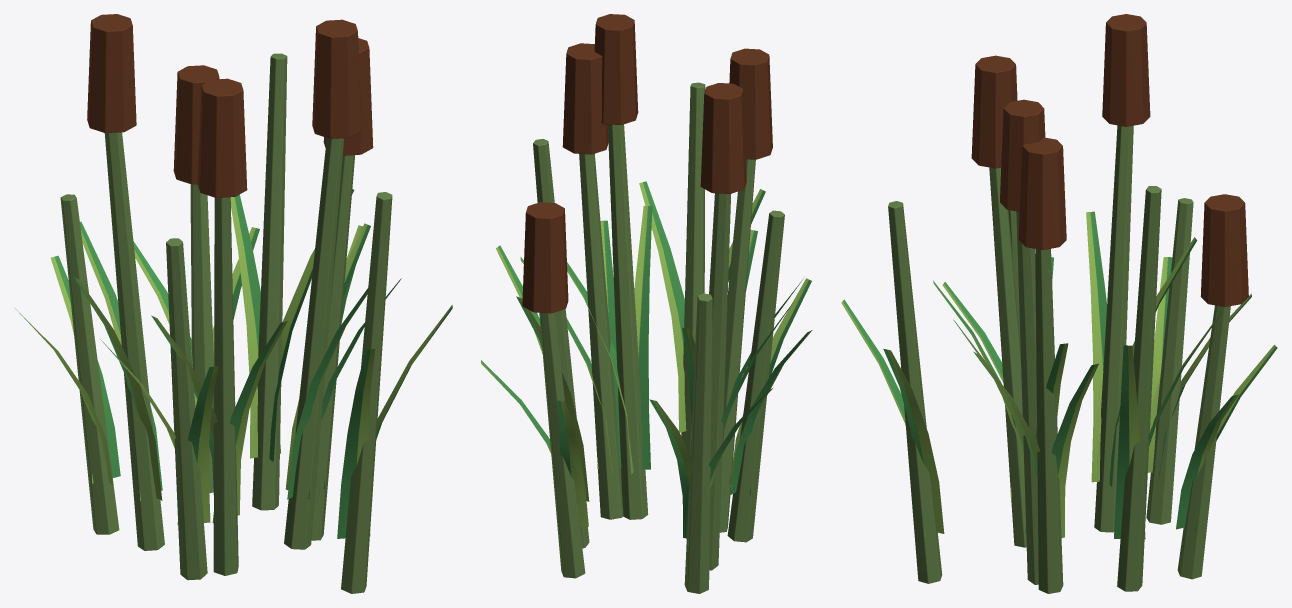
Rendered from reed_clump.glb.
3 renders of one model, left to right at view 1: azimuth 30°, elevation 25°; view 2: azimuth 150°, elevation 25°; view 3: azimuth 270°, elevation 25°, orthographic. The views are drawn at different scales.
Parts seen in each view (by area): view 1: Marsh reed.001; view 2: Marsh reed.001; view 3: Marsh reed.001.
Boxes of the visible parts, <box> form: Marsh reed.001: <box>15,14,452,593</box>; Marsh reed.001: <box>481,14,812,593</box>; Marsh reed.001: <box>841,14,1277,593</box>.
Size of the model in its own units: 0.9194 by 1.46 by 1.17.
